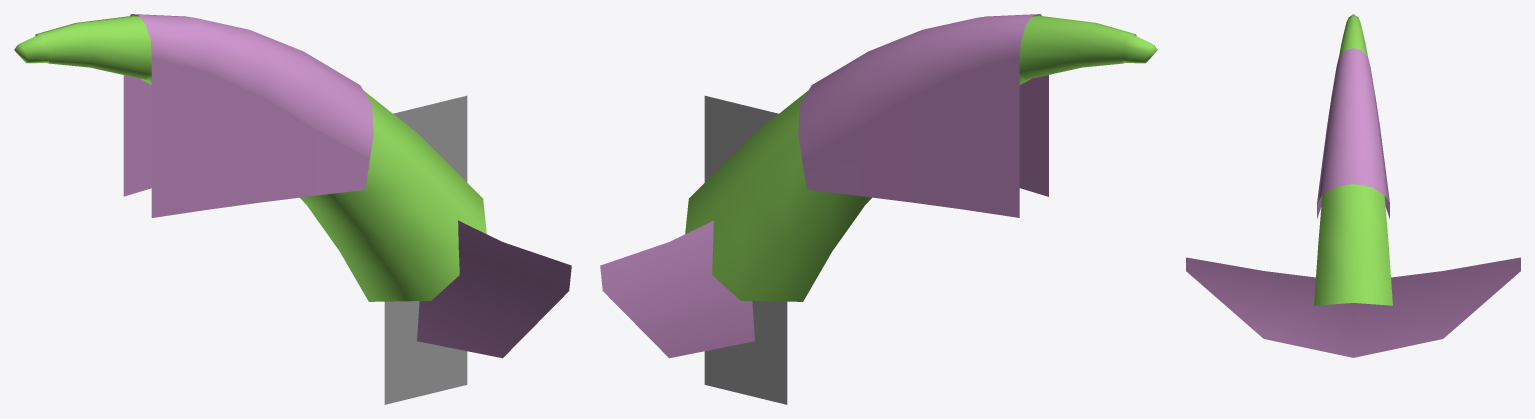
The model's file is BoenWorn.fbx.
The picture shows the model from 3 angles, left to right: view 1: azimuth 30°, elevation 25°; view 2: azimuth 150°, elevation 25°; view 3: azimuth 270°, elevation 25°; orthographic projection. The views are drawn at different scales.
Parts seen in each view (by area): view 1: Bone07, Bone06, Bone08, BoneRope03, BoneRope02, BoneRope01; view 2: Bone07, Bone06, Bone08, BoneRope03, BoneRope02, BoneRope01; view 3: Bone08, Bone06, Bone07, BoneRope02.
Boxes of the visible parts, bbox=[...] form: Bone07: bbox=[123, 14, 373, 217]; Bone06: bbox=[14, 18, 486, 301]; Bone08: bbox=[417, 220, 571, 358]; BoneRope03: bbox=[384, 95, 467, 404]; BoneRope02: bbox=[76, 15, 151, 79]; BoneRope01: bbox=[35, 23, 93, 67]; Bone07: bbox=[798, 14, 1048, 217]; Bone06: bbox=[685, 18, 1157, 301]; Bone08: bbox=[600, 220, 754, 358]; BoneRope03: bbox=[704, 95, 787, 404]; BoneRope02: bbox=[1019, 15, 1095, 79]; BoneRope01: bbox=[1078, 23, 1136, 67]; Bone08: bbox=[1186, 257, 1520, 357]; Bone06: bbox=[1314, 14, 1392, 306]; Bone07: bbox=[1317, 48, 1389, 218]; BoneRope02: bbox=[1339, 28, 1367, 56].
Size of the model in its own units: 170 by 158 by 179.
